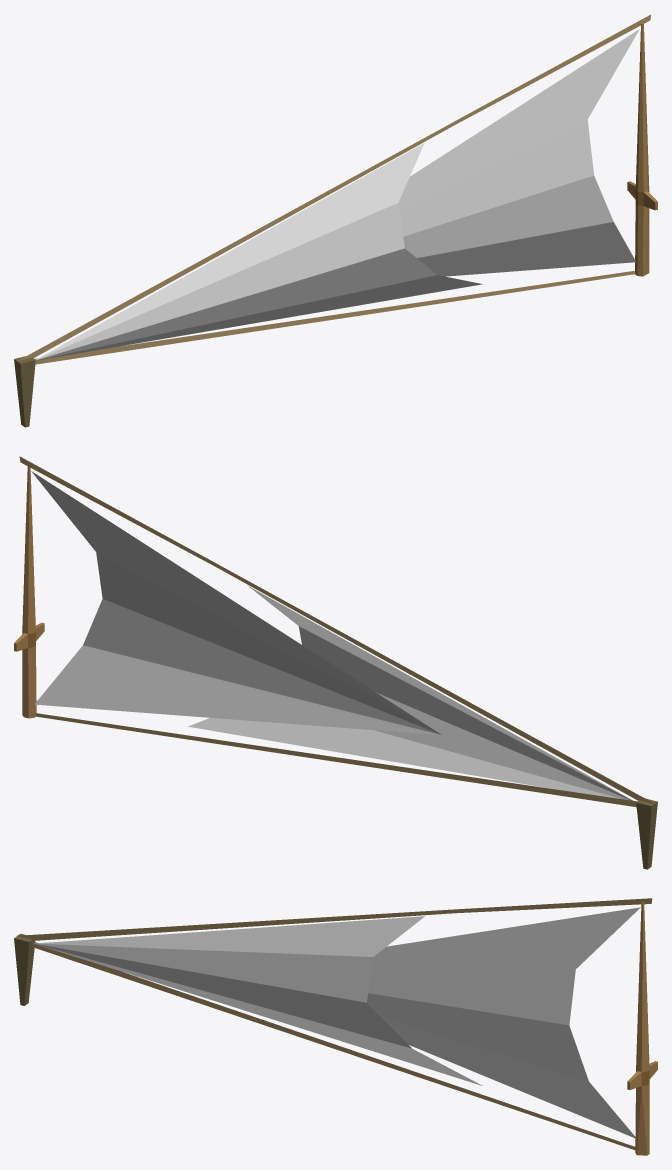
Rendered from obj_sail_2_0.obj.
3 views of the same model, one above another, from view 1: azimuth 30°, elevation 25°; view 2: azimuth 150°, elevation 25°; view 3: azimuth 330°, elevation 25° (orthographic).
Size of the model in its own units: 7.09 by 2.76 by 0.6328.
